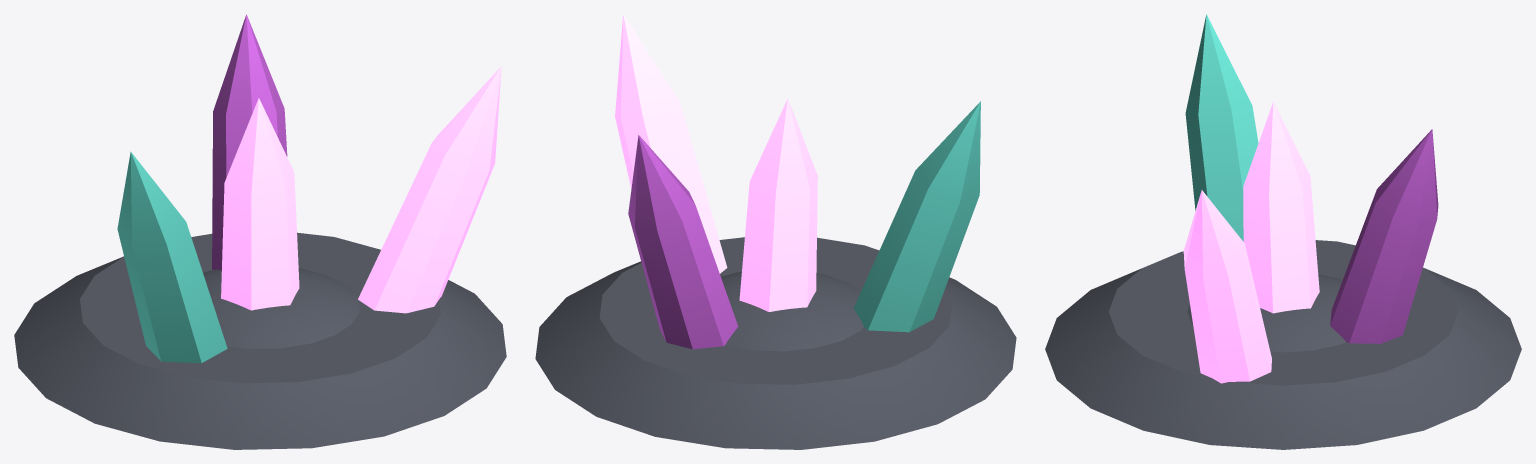
Rendered from gem_stage_1.glb.
3 views of the same model, side by side, from view 1: azimuth 30°, elevation 25°; view 2: azimuth 150°, elevation 25°; view 3: azimuth 270°, elevation 25° (orthographic). The views are drawn at different scales.
Visible parts, largest first — view 1: Hull; view 2: Hull; view 3: Hull.
Part boxes in pixels (x1,y1,x2,y2): Hull: (14,14,506,449); Hull: (535,14,1016,449); Hull: (1045,14,1521,449).
Size of what is drawn, in the model's own units: 0.6 by 0.3547 by 0.6.
